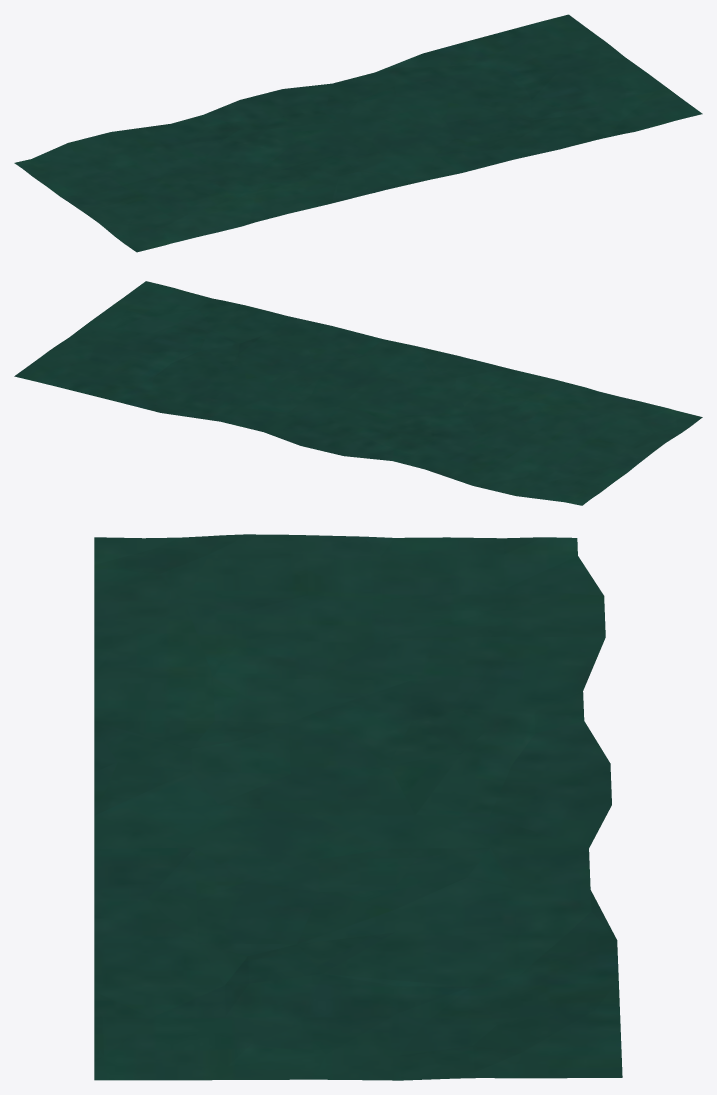
The picture shows the model from 3 angles, top to bottom: view 1: azimuth 30°, elevation 25°; view 2: azimuth 150°, elevation 25°; view 3: azimuth 270°, elevation 25°; orthographic projection. The views are drawn at different scales.
Size of the model in its own units: 52.22 by 0.4806 by 21.44.
1 material, 1 textured.
